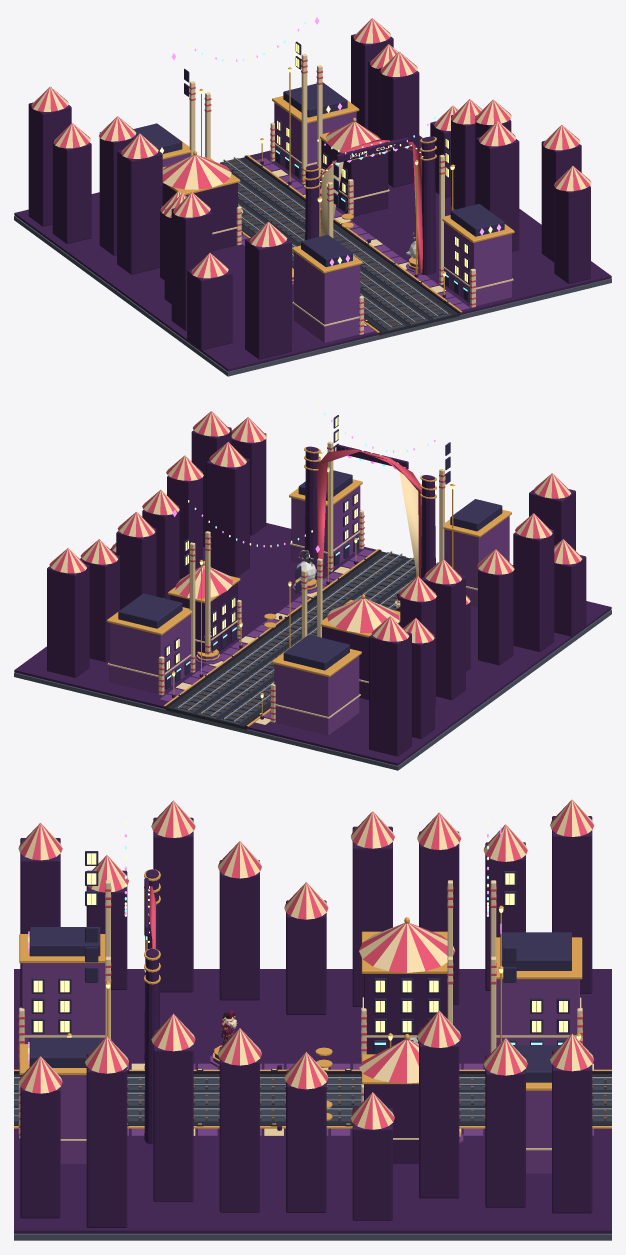
File: 03_Jester_Court.glb
The picture shows the model from 3 angles, top to bottom: view 1: azimuth 30°, elevation 25°; view 2: azimuth 150°, elevation 25°; view 3: azimuth 270°, elevation 25°; orthographic projection. The views are drawn at different scales.
Visible parts, largest first — view 1: 03_Jester_Court · plum, 03_Jester_Court · cream, 03_Jester_Court · violet, 03_Jester_Court · pink, 03_Jester_Court · nightglass, District_Gate, 03_Jester_Court · stone, 03_Jester_Court · gold, 03_Jester_Court · dirt, 03_Jester_Court · ballast, 03_Jester_Court · tie, 03_Jester_Court · steel (+4 smaller); view 2: 03_Jester_Court · plum, 03_Jester_Court · violet, 03_Jester_Court · cream, 03_Jester_Court · pink, 03_Jester_Court · nightglass, District_Gate, 03_Jester_Court · stone, 03_Jester_Court · gold, 03_Jester_Court · dirt, 03_Jester_Court · ballast, 03_Jester_Court · tie, 03_Jester_Court · steel (+4 smaller); view 3: 03_Jester_Court · plum, 03_Jester_Court · cream, 03_Jester_Court · violet, 03_Jester_Court · pink, 03_Jester_Court · nightglass, 03_Jester_Court · gold, 03_Jester_Court · dirt, 03_Jester_Court · stone, District_Gate, 03_Jester_Court · lamp, 03_Jester_Court · steel, 03_Jester_Court · steelweb (+3 smaller).
Boxes of the visible parts, x1=… form: 03_Jester_Court · plum: x1=14, y1=34, x2=611, y2=371; 03_Jester_Court · cream: x1=31, y1=18, x2=591, y2=334; 03_Jester_Court · violet: x1=162, y1=102, x2=511, y2=343; 03_Jester_Court · pink: x1=31, y1=18, x2=590, y2=332; 03_Jester_Court · nightglass: x1=133, y1=41, x2=504, y2=301; District_Gate: x1=304, y1=136, x2=455, y2=274; 03_Jester_Court · stone: x1=220, y1=158, x2=451, y2=330; 03_Jester_Court · gold: x1=162, y1=44, x2=514, y2=332; 03_Jester_Court · dirt: x1=14, y1=216, x2=611, y2=376; 03_Jester_Court · ballast: x1=231, y1=157, x2=460, y2=335; 03_Jester_Court · tie: x1=222, y1=159, x2=444, y2=328; 03_Jester_Court · steel: x1=223, y1=157, x2=448, y2=327; 03_Jester_Court · plum: x1=14, y1=427, x2=611, y2=765; 03_Jester_Court · violet: x1=109, y1=486, x2=509, y2=735; 03_Jester_Court · cream: x1=50, y1=411, x2=581, y2=724; 03_Jester_Court · pink: x1=49, y1=411, x2=581, y2=720; 03_Jester_Court · nightglass: x1=118, y1=415, x2=502, y2=689; District_Gate: x1=304, y1=444, x2=455, y2=582; 03_Jester_Court · stone: x1=174, y1=552, x2=415, y2=724; 03_Jester_Court · gold: x1=106, y1=418, x2=511, y2=726; 03_Jester_Court · dirt: x1=14, y1=610, x2=611, y2=770; 03_Jester_Court · ballast: x1=165, y1=551, x2=415, y2=729; 03_Jester_Court · tie: x1=176, y1=556, x2=415, y2=719; 03_Jester_Court · steel: x1=177, y1=551, x2=438, y2=721; 03_Jester_Court · plum: x1=14, y1=816, x2=611, y2=1233; 03_Jester_Court · cream: x1=18, y1=799, x2=593, y2=1150; 03_Jester_Court · violet: x1=21, y1=963, x2=593, y2=1173; 03_Jester_Court · pink: x1=18, y1=800, x2=594, y2=1135; 03_Jester_Court · nightglass: x1=29, y1=851, x2=571, y2=1082; 03_Jester_Court · gold: x1=14, y1=853, x2=611, y2=1136; 03_Jester_Court · dirt: x1=14, y1=1233, x2=611, y2=1240; 03_Jester_Court · stone: x1=14, y1=1079, x2=611, y2=1122; District_Gate: x1=105, y1=869, x2=160, y2=1144; 03_Jester_Court · lamp: x1=28, y1=821, x2=580, y2=1053; 03_Jester_Court · steel: x1=14, y1=1077, x2=611, y2=1116; 03_Jester_Court · steelweb: x1=14, y1=1078, x2=611, y2=1117.
Bounding box in the file's own units: 56.3 × 24.56 × 54.
23 materials, 2 textured.
